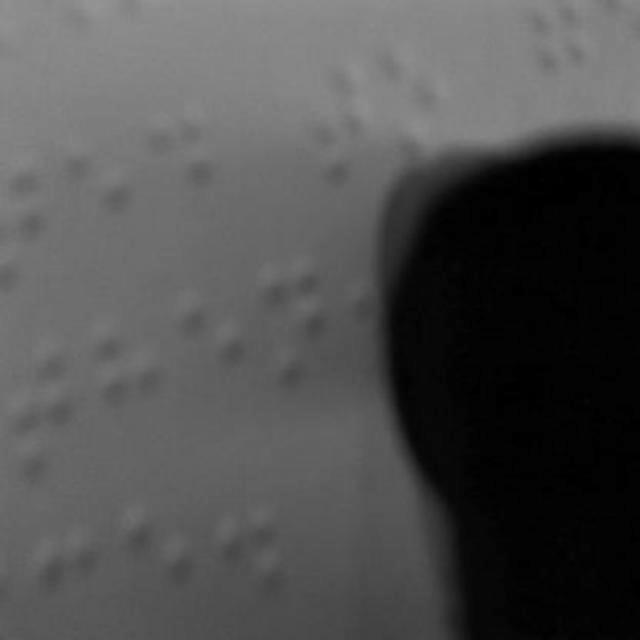braiile: (9, 323, 93, 483), (145, 92, 217, 258), (56, 130, 132, 282), (175, 280, 251, 428), (259, 253, 337, 397), (91, 308, 163, 462), (307, 62, 379, 196), (384, 45, 448, 171)
